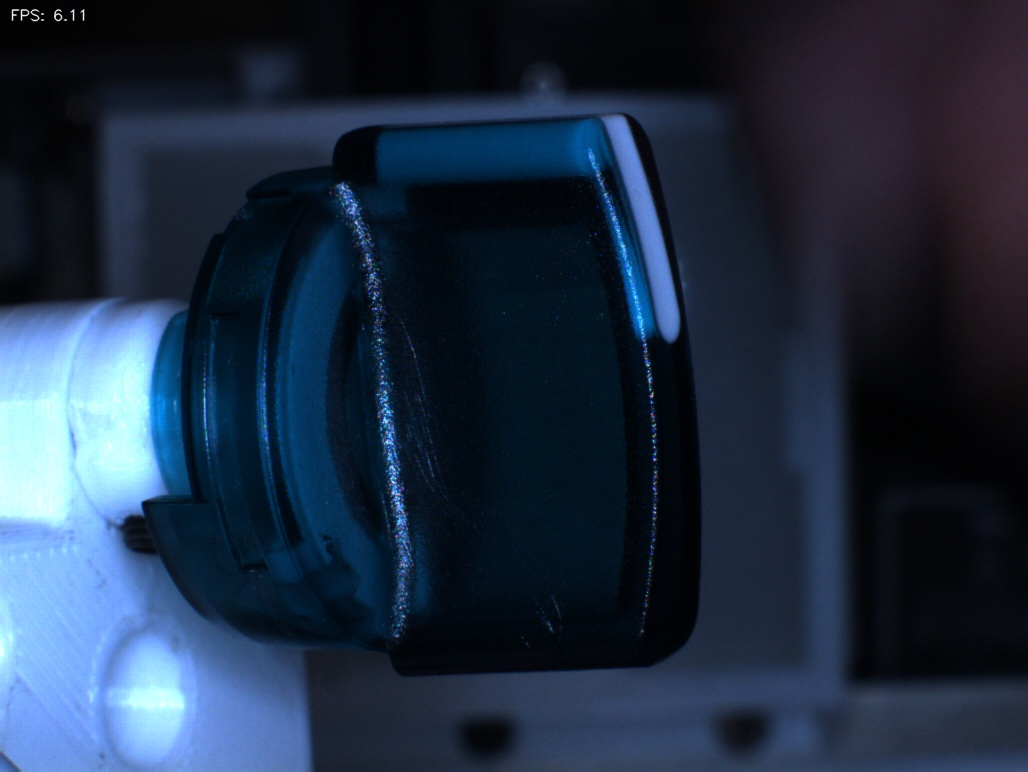Givrage: (389, 308, 476, 521), (504, 586, 569, 662)
